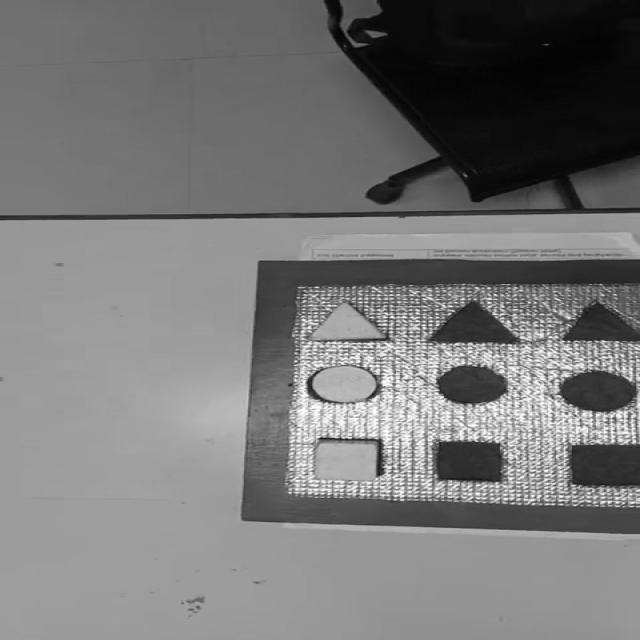mtcircle: (558, 370, 637, 413), (434, 364, 511, 405)
mtcube: (566, 441, 640, 487), (434, 439, 506, 483)
mttriangle: (426, 300, 521, 345), (560, 299, 640, 344)
wb: (282, 280, 640, 511)
ycircle: (307, 364, 380, 404)
ycube: (312, 437, 382, 481)
ytriangle: (307, 299, 391, 343)
